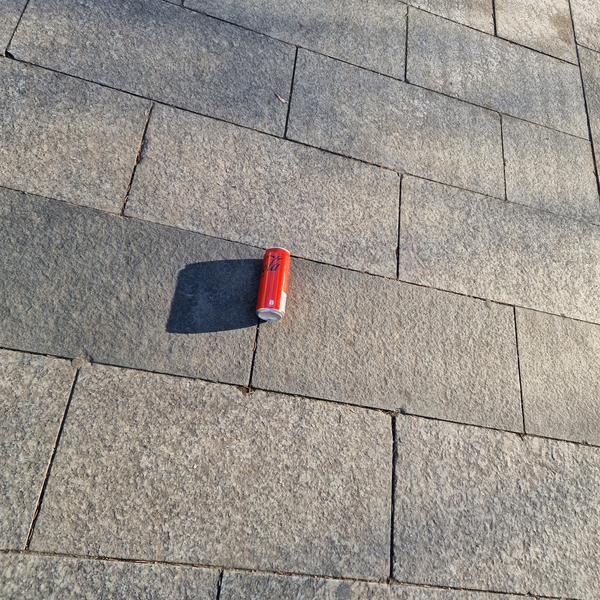can: (256, 245, 293, 323)
